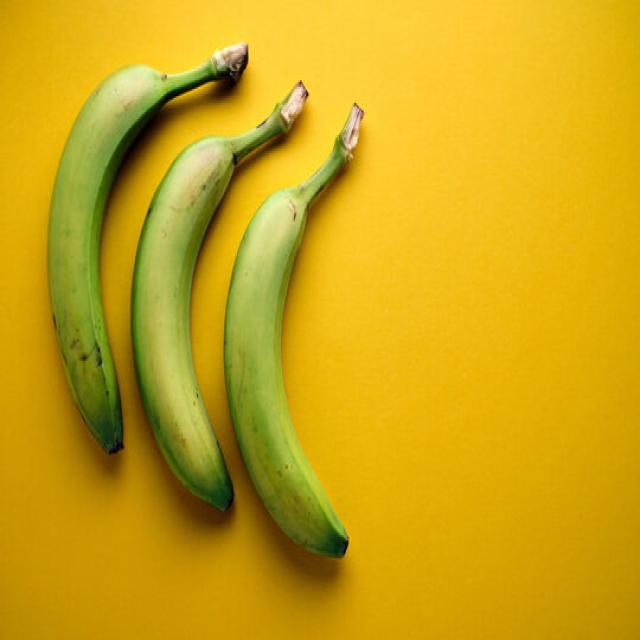non_orange: (43, 37, 248, 460), (128, 75, 308, 512), (222, 100, 366, 564)
